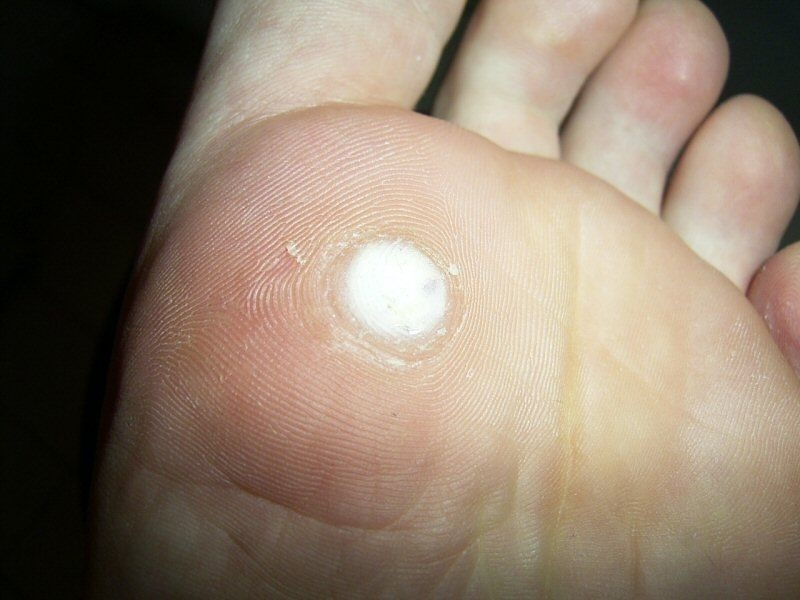Warts: (307, 201, 472, 388)
